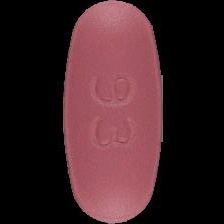63629-1377: (0, 0, 224, 224)
